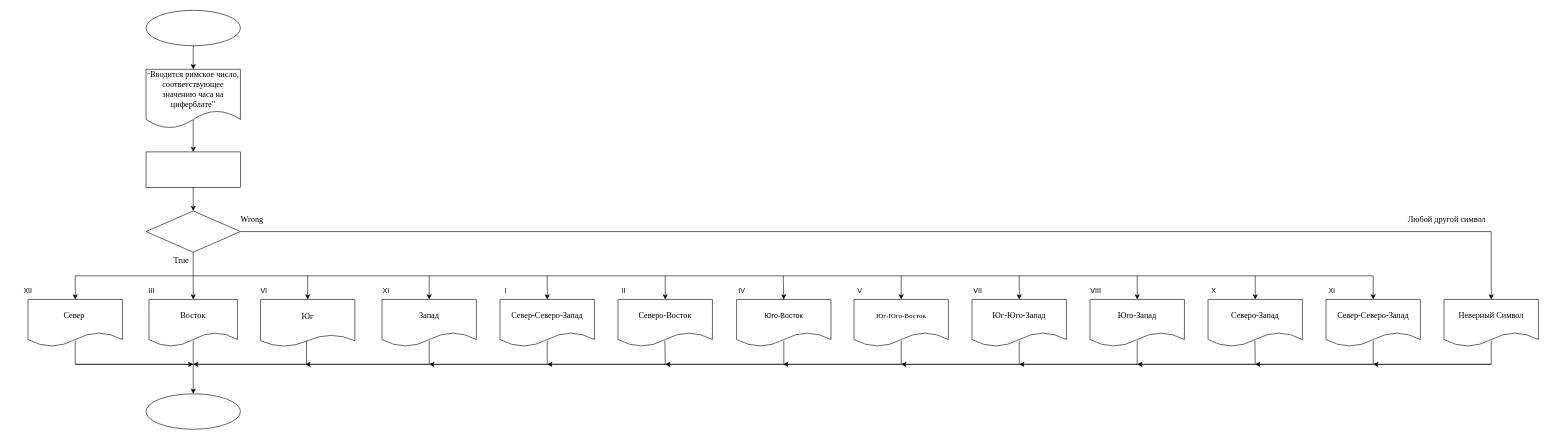
This 1549x440 diagram has some shape labels left out. The shapes that lost their labels are listed below. From the top down, each one's box as (x1, y1, x2, y2) in pixels, then its label:
(145, 10, 240, 46): Начало
(145, 151, 240, 187): RomanNumeral = Console.Readline()
(145, 210, 240, 252): RomanNumeral?
(145, 393, 240, 429): Конец
